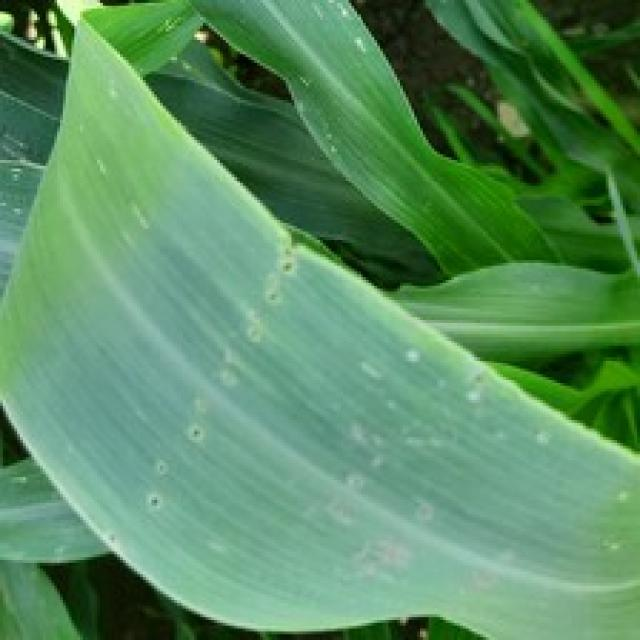Corn: (0, 0, 637, 637), (151, 0, 563, 280)
